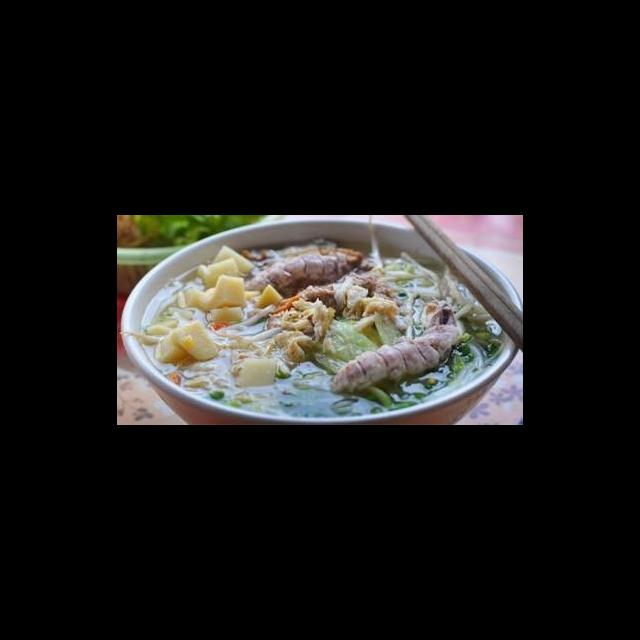tom tit: (324, 302, 466, 399), (236, 245, 366, 296)
